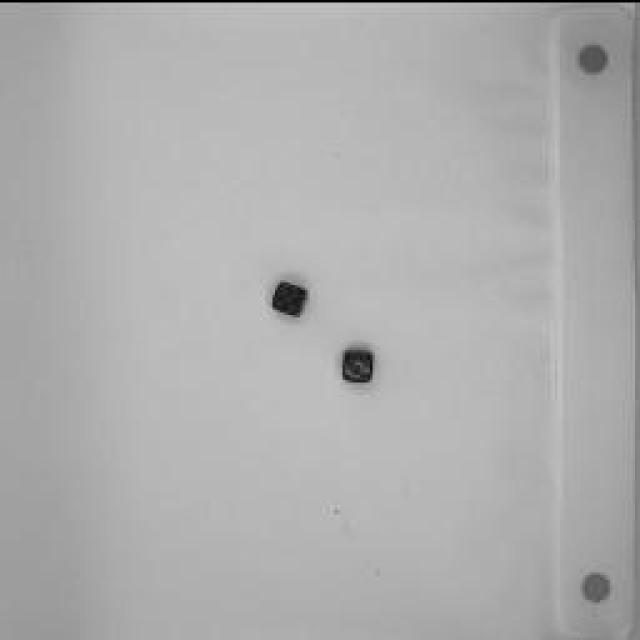dice_3: (342, 348, 378, 382)
dice_5: (272, 280, 310, 315)
